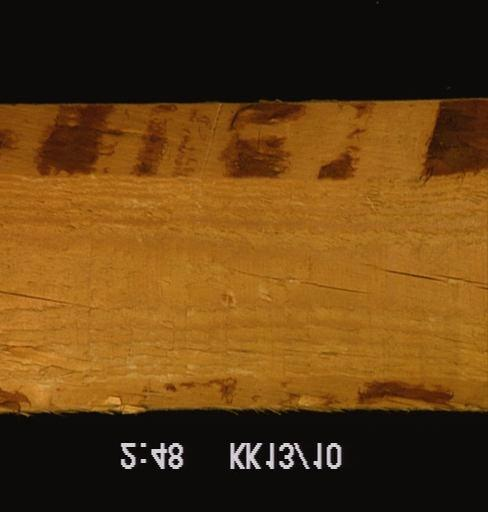split: (227, 272, 365, 299), (0, 286, 119, 317), (371, 263, 485, 290)
wave: (0, 94, 487, 178), (0, 379, 487, 410)
